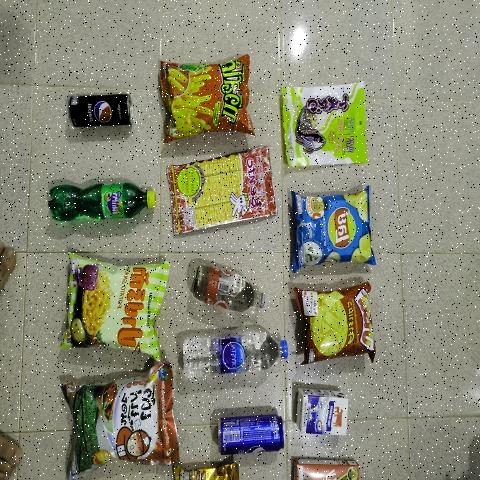bento_red: (165, 146, 273, 236)
crystal: (180, 326, 287, 377)
fanta_green: (46, 179, 156, 218)
lay_blue: (296, 191, 370, 262)
paprika: (70, 260, 162, 346)
party_red: (294, 284, 370, 360)
pepsi_black: (65, 89, 133, 130)
pepsi_blue: (217, 414, 285, 450)
singha_soda: (184, 261, 269, 313)
taokaenoi: (68, 381, 176, 466)
taro_yellow: (285, 87, 363, 165)
thai_denmark: (296, 389, 347, 430)
twisco: (159, 59, 249, 138)
